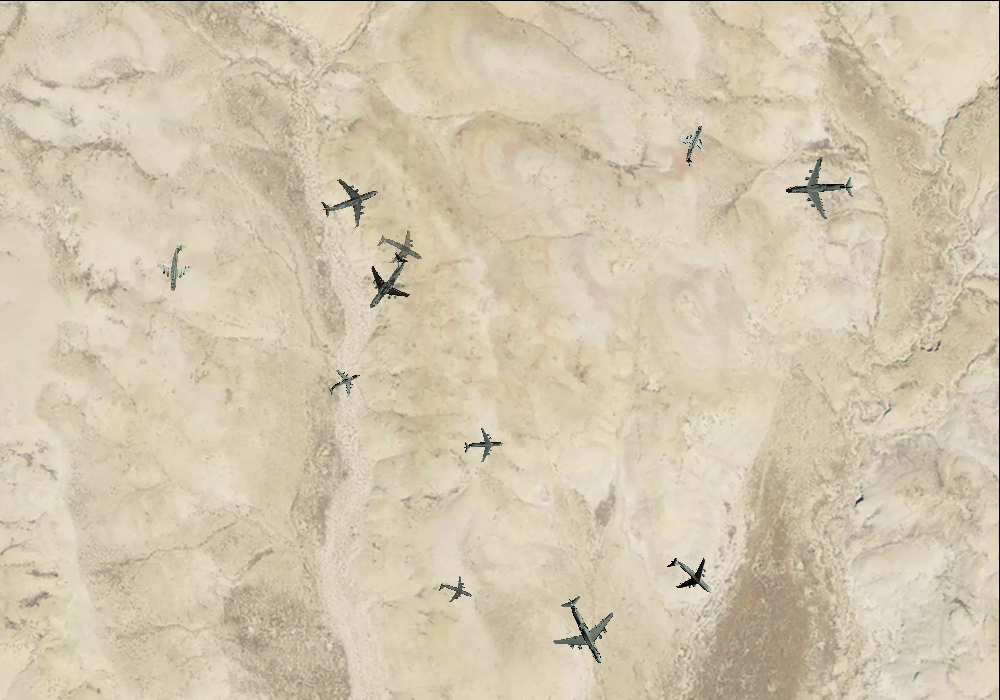plane: (539, 584, 630, 678), (346, 240, 427, 323), (313, 165, 386, 236), (783, 154, 856, 222), (656, 542, 725, 611), (369, 218, 431, 279), (670, 119, 719, 172), (153, 242, 199, 293), (321, 361, 366, 405), (434, 570, 477, 612), (463, 426, 504, 464)
